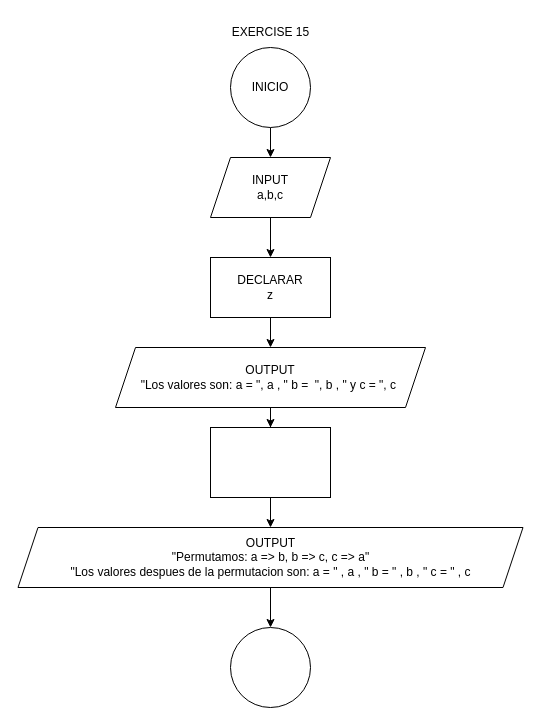
Some shapes in this 540 by 725 pixel diagram are drawn without their labels. The centre of each missing label's shape, as x and y in pixels:
FIN: (270,667)
z=a a=c c=b b=z: (270,462)
